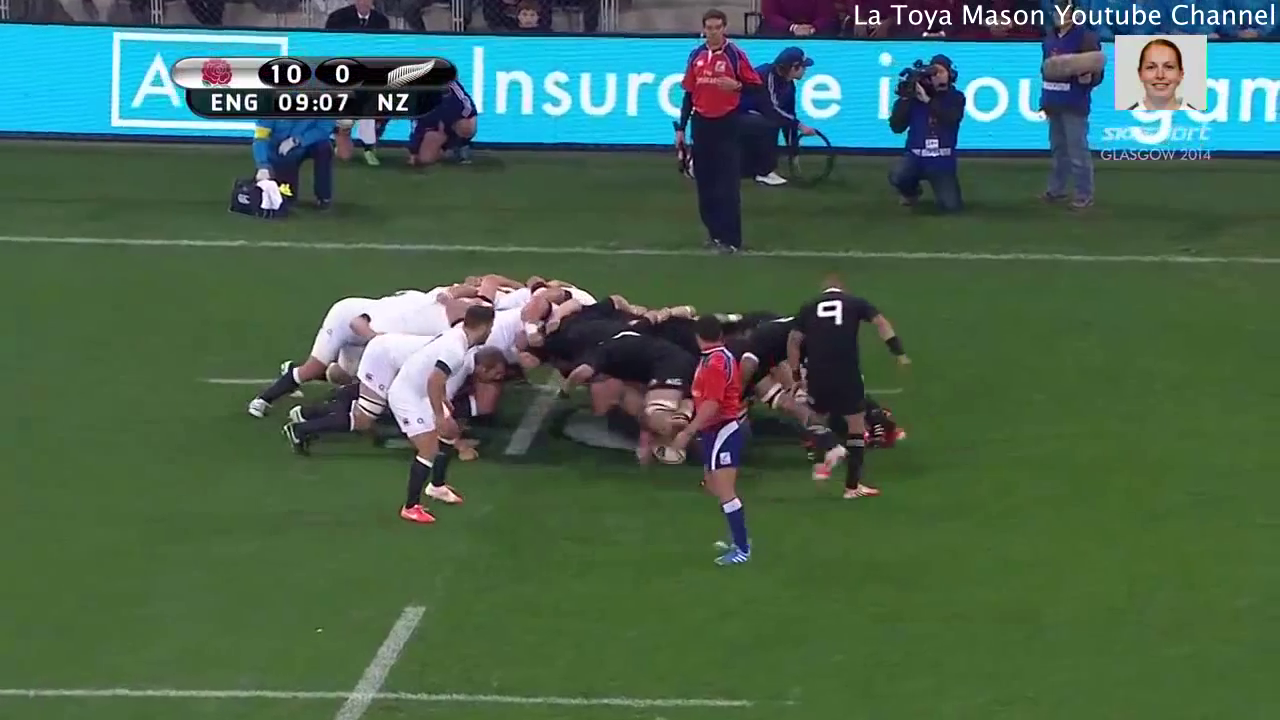ball: (639, 427, 697, 468)
player: (781, 272, 916, 523), (231, 284, 467, 424), (675, 299, 774, 586), (385, 295, 501, 532), (564, 313, 720, 468)
scrum: (250, 253, 930, 518)
